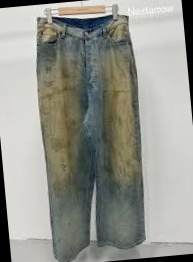earth: (102, 70, 136, 175), (43, 80, 75, 187)
